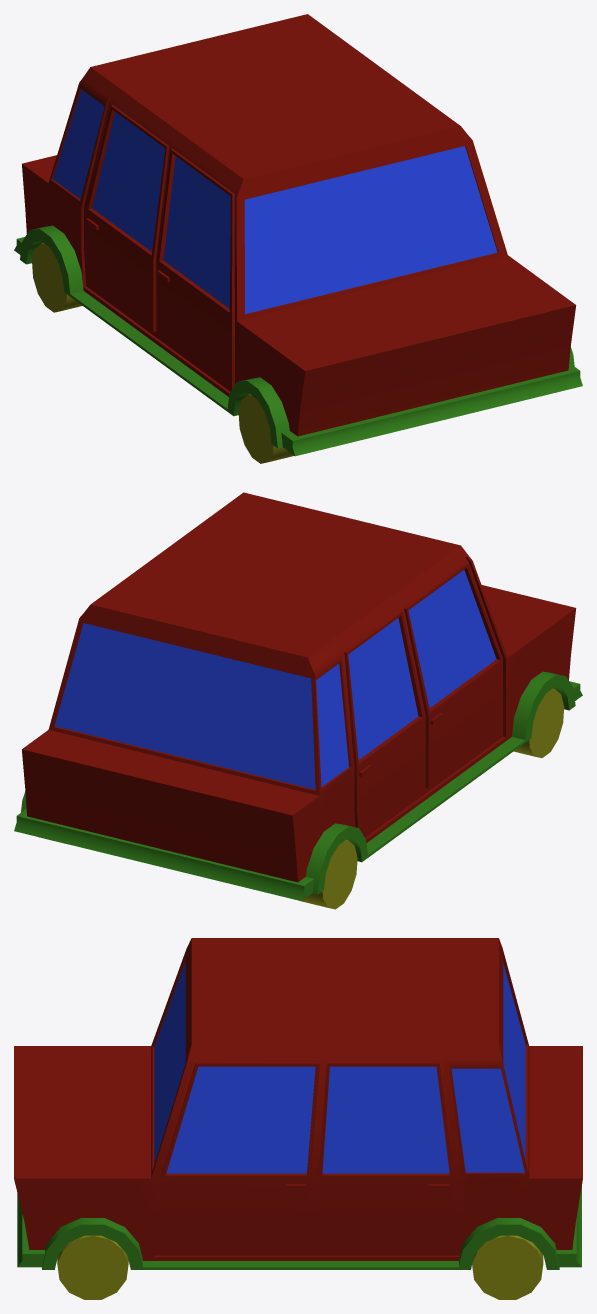
The model's file is SM_Car.fbx.
3 views of the same model, one above another, from view 1: azimuth 30°, elevation 25°; view 2: azimuth 150°, elevation 25°; view 3: azimuth 270°, elevation 25° (orthographic).
Parts seen in each view (by area): view 1: Base_Car, Car_Wheel_Front_Right, Car_Wheel_Back_Right; view 2: Base_Car, Car_Wheel_Back_Right, Car_Wheel_Front_Right; view 3: Base_Car, Car_Wheel_Front_Left, Car_Wheel_Back_Left.
Boxes of the visible parts, bbox=[...] form: Base_Car: bbox=[14, 14, 582, 456]; Car_Wheel_Front_Right: bbox=[238, 394, 294, 463]; Car_Wheel_Back_Right: bbox=[32, 243, 82, 312]; Base_Car: bbox=[14, 492, 582, 901]; Car_Wheel_Back_Right: bbox=[300, 839, 357, 909]; Car_Wheel_Front_Right: bbox=[513, 688, 564, 757]; Base_Car: bbox=[14, 938, 582, 1269]; Car_Wheel_Front_Left: bbox=[57, 1235, 128, 1299]; Car_Wheel_Back_Left: bbox=[472, 1235, 543, 1299].
Bounding box in the file's own units: 2.16 × 1.64 × 3.57.
